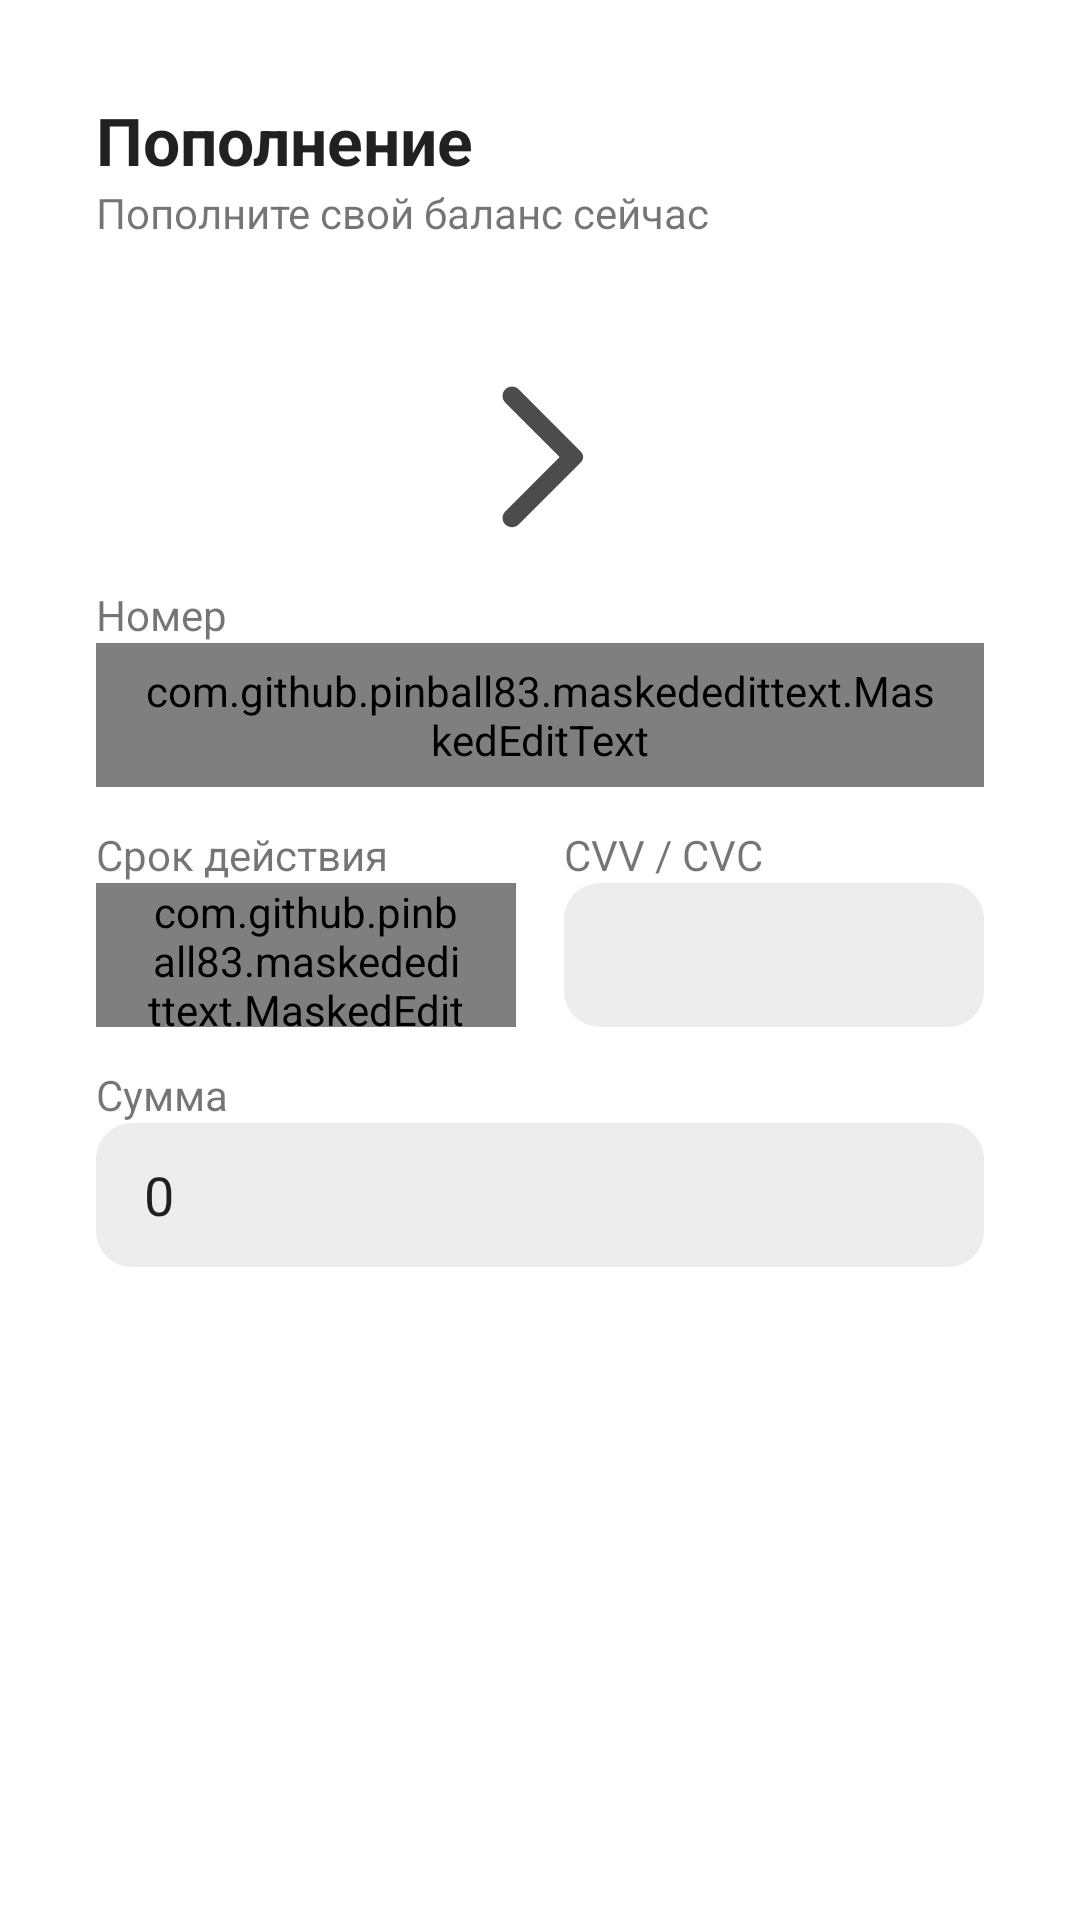

Named icons in this screenshot (1080px x 1920px) and their bounding boxes, (x1, y1, x2, y2):
right: (502, 386, 583, 528)
